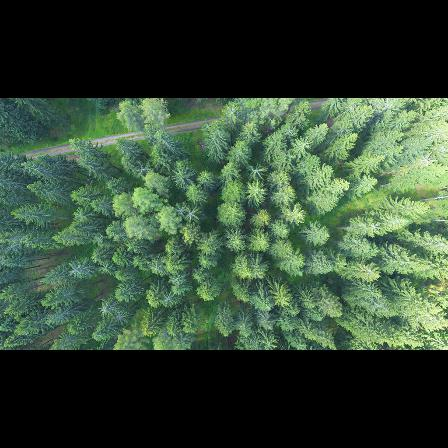Sick: (65, 260, 86, 280), (247, 162, 269, 180), (221, 103, 241, 120), (135, 160, 154, 176), (111, 309, 129, 322), (172, 201, 186, 217), (170, 271, 184, 287), (282, 123, 299, 136), (161, 290, 175, 305), (184, 208, 199, 221), (99, 302, 114, 314)
